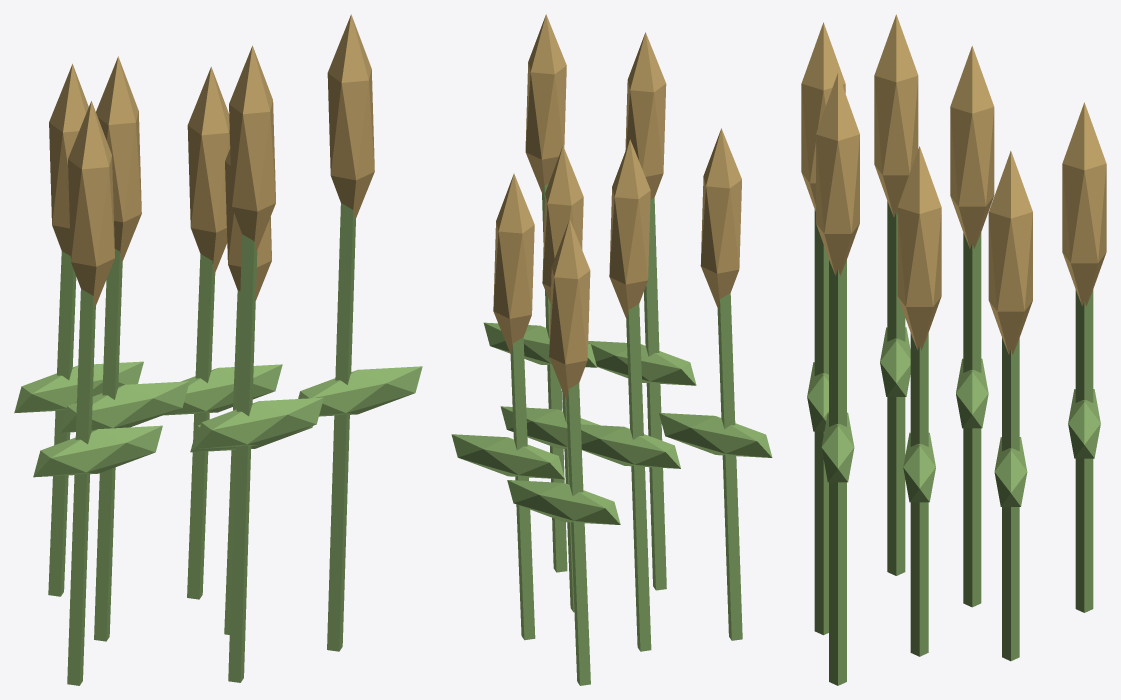
The model's file is crop_millet_ripe.glb.
The picture shows the model from 3 angles, left to right: view 1: azimuth 30°, elevation 25°; view 2: azimuth 150°, elevation 25°; view 3: azimuth 270°, elevation 25°; orthographic projection. The views are drawn at different scales.
Parts seen in each view (by area): view 1: crop_millet_ripe; view 2: crop_millet_ripe; view 3: crop_millet_ripe.
Boxes of the visible parts, x1,y1,x2,y2 form: crop_millet_ripe: [14, 14, 422, 685]; crop_millet_ripe: [451, 14, 772, 685]; crop_millet_ripe: [801, 14, 1106, 685].
Size of the model in its own units: 0.5479 by 0.918 by 0.4112.
